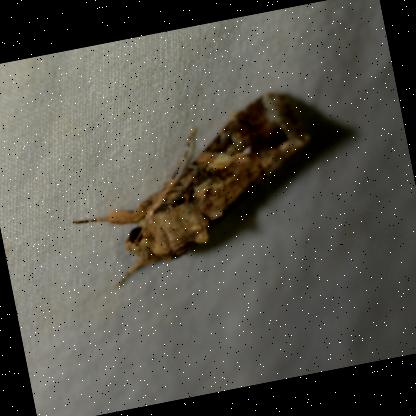Fall Armyworm Moth: (50, 78, 338, 300)
